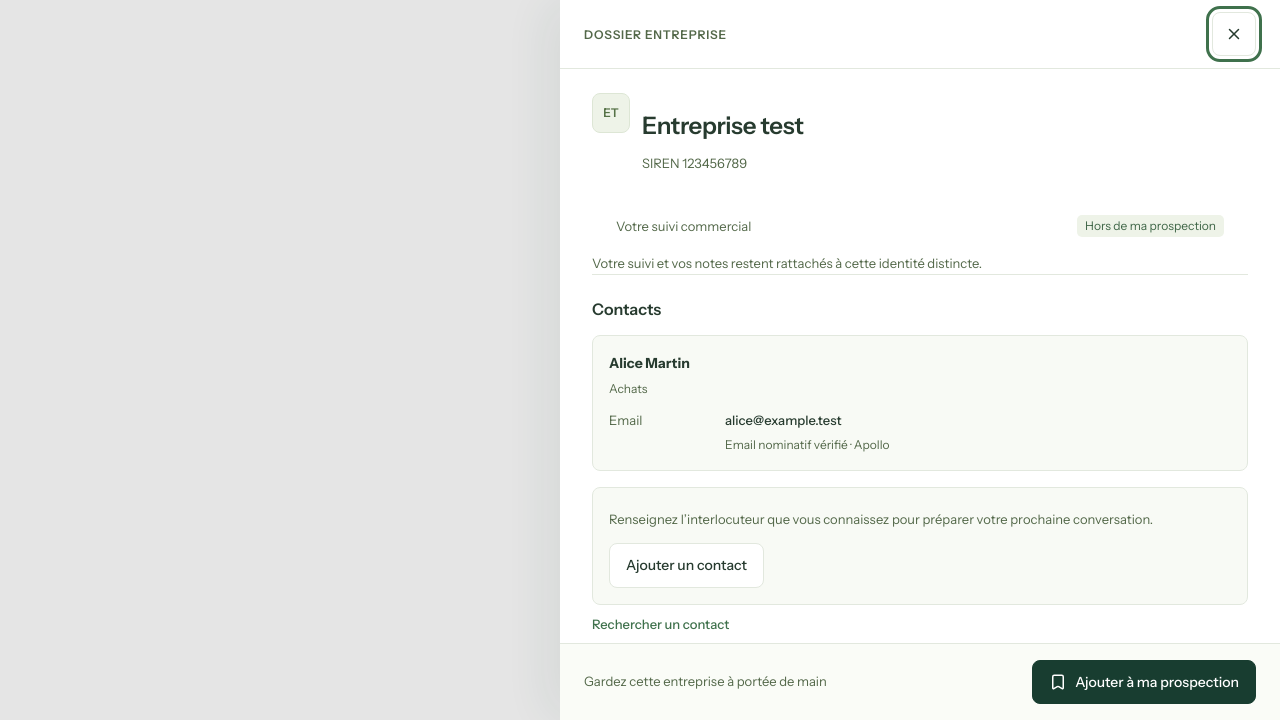
Scenario: one server-backed company dossier › removes previously visible Apollo contacts when the server reports suppression
The image size is (1280, 720).
Expected: the link "alice@example.test" is shown, [725,412,842,428]
Click the button "Rechercher un contact": (661, 625) [592,605,729,645]
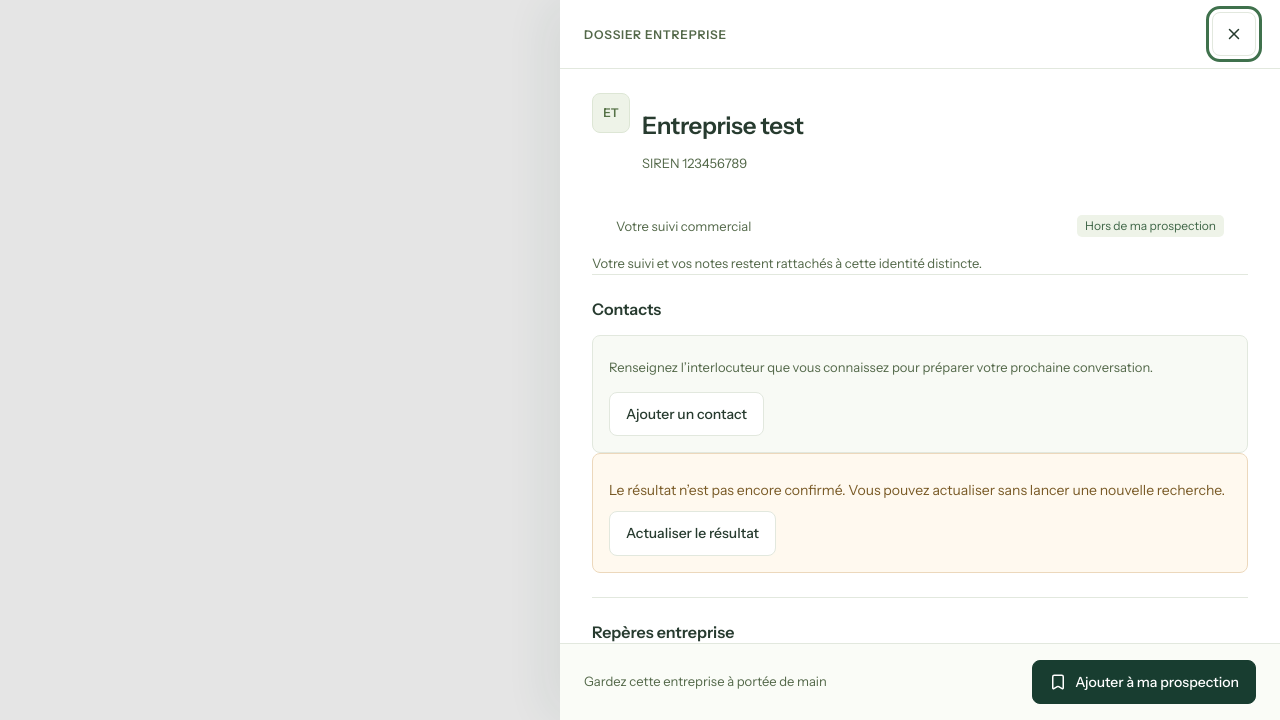
Now the link "alice@example.test" is gone
Now the text "Alice Martin" is gone
